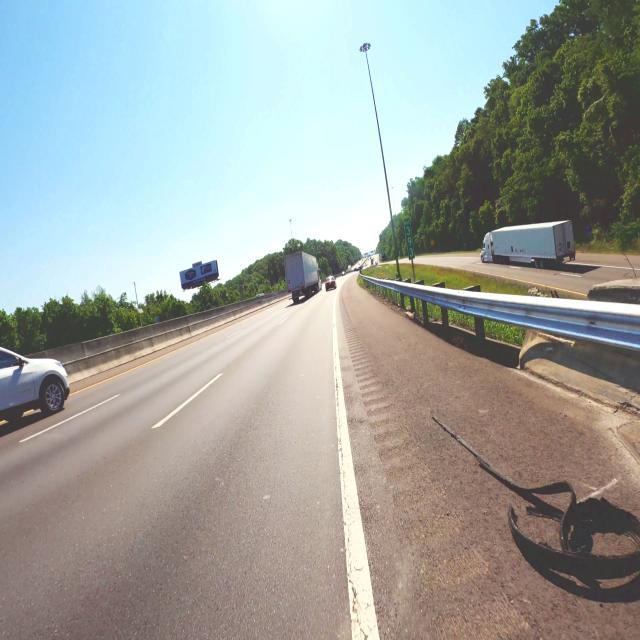car: (0, 348, 69, 423), (325, 276, 336, 290)
